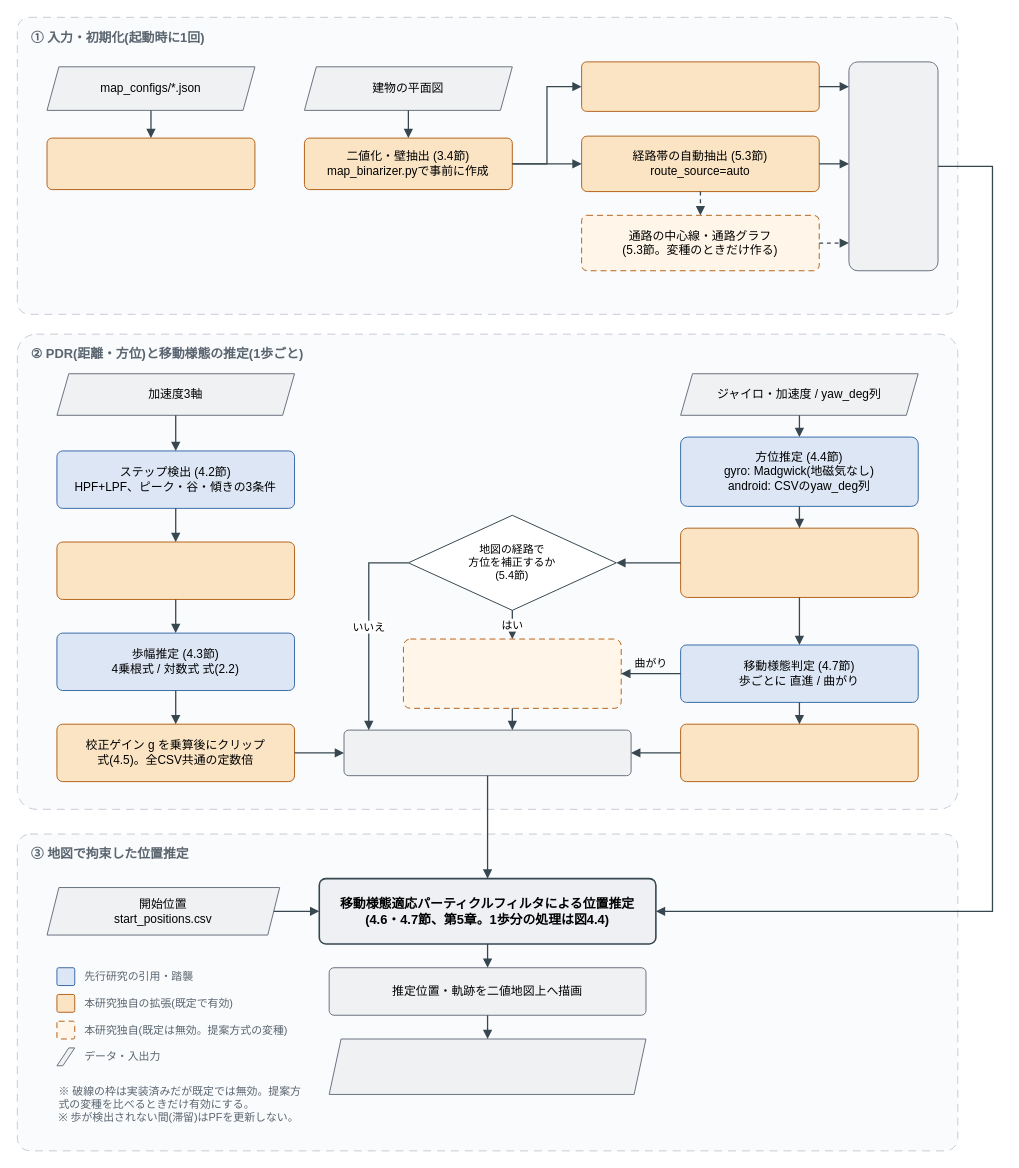
This 1019x1168 diagram has some shape labels left out. Here are the shapes that lost their labels. From the top down, the centre of each, then its label:
At pixel 700 86: "壁距離場 dist_map 連続的な壁尤度 → 式(5.6)".
At pixel 150 163: "設定読み込み・適用 (必須値の欠落はエラー)".
At pixel 893 166: "地図制約 情報".
At pixel 175 570: "最短ピーク間隔を上限歩調2.9Hz から決定 式(4.4)".
At pixel 799 562: "初期方位の校正 (4.4節) 開始時の向きを地図の向きに合わせる 基準: 先頭30サンプル / 最初の10歩".
At pixel 511 673: "経路方位補正 式(5.1) 曲がり検出後、曲がり角25px以内で 次の区間へ(中心線・手動経路のみ)".
At pixel 487 752: "1歩分の歩幅・方位・移動様態".
At pixel 799 752: "ヨーレート75%ile + 方位変化の AND条件 + ヒステリシス (4.7節)".
At pixel 487 1066: "結果PNGを results/ へ保存(毎回) 推定軌跡CSV(オプション指定時)".
